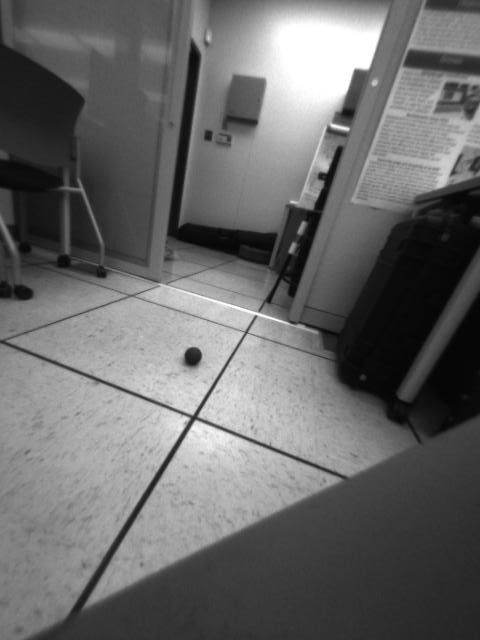dogtoy: (180, 342, 208, 371)
